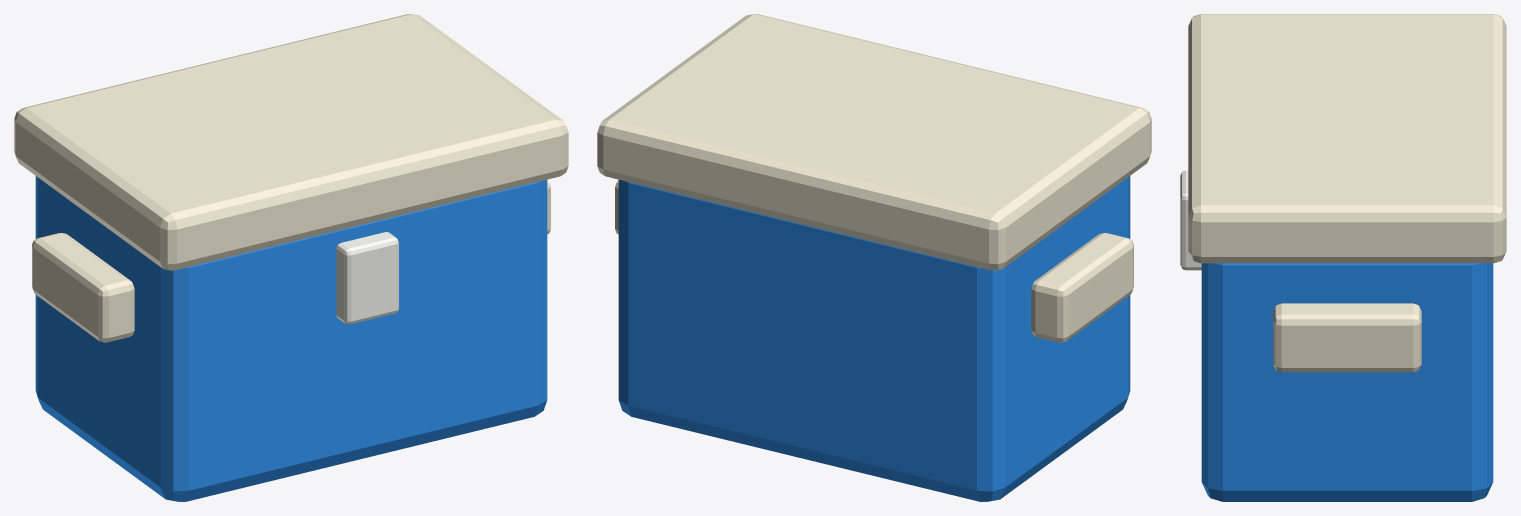
Rendered from beach-cooler.glb.
The picture shows the model from 3 angles, left to right: view 1: azimuth 30°, elevation 25°; view 2: azimuth 150°, elevation 25°; view 3: azimuth 270°, elevation 25°; orthographic projection.
Parts seen in each view (by area): view 1: Cooler body.001; view 2: Cooler body.001; view 3: Cooler body.001.
Part boxes in pixels (x1,y1,x2,y2): Cooler body.001: (14, 14, 568, 501); Cooler body.001: (597, 14, 1151, 501); Cooler body.001: (1180, 14, 1506, 501).
Size of the model in its own units: 1 by 0.635 by 0.615.
